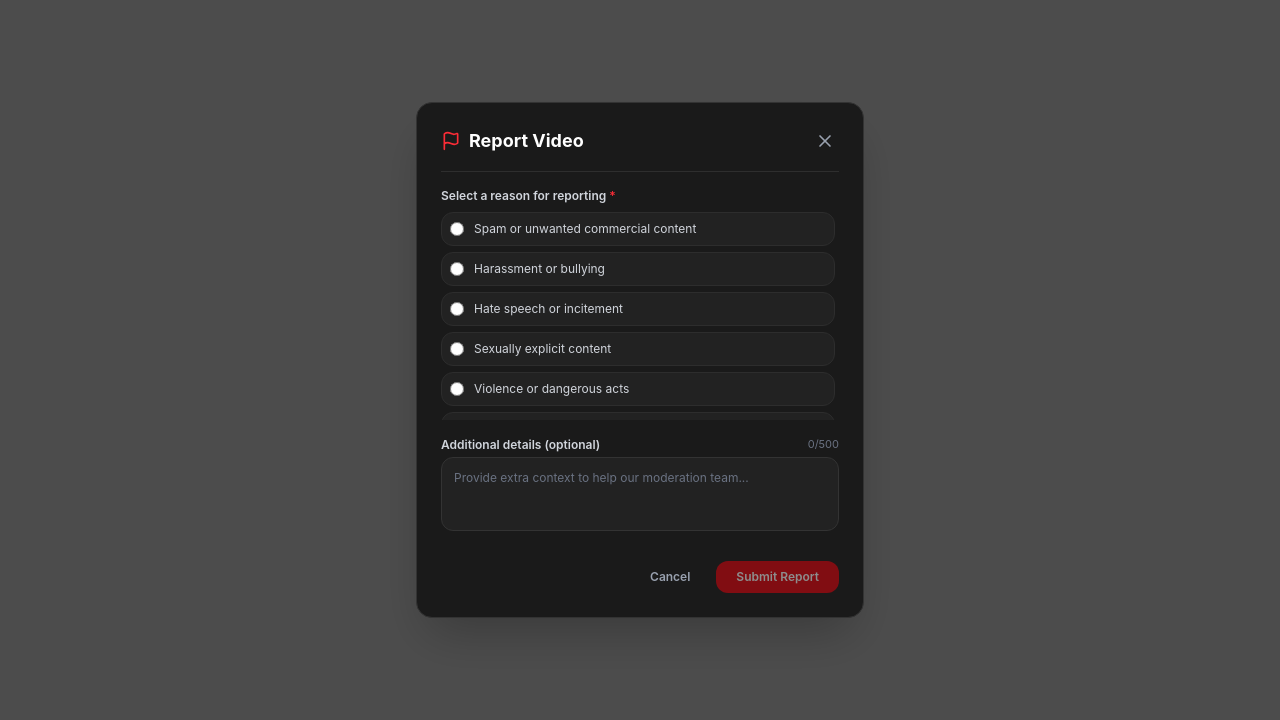
Test: Admin & Moderation UI (Task U4) › 2. User Reporting (ReportDialog) › unmounts cleanly right after successful report submit with fake timers
Click the radio button labelled "Spam or unwanted commercial content".
click(457, 229)  # box [450,222,464,236]
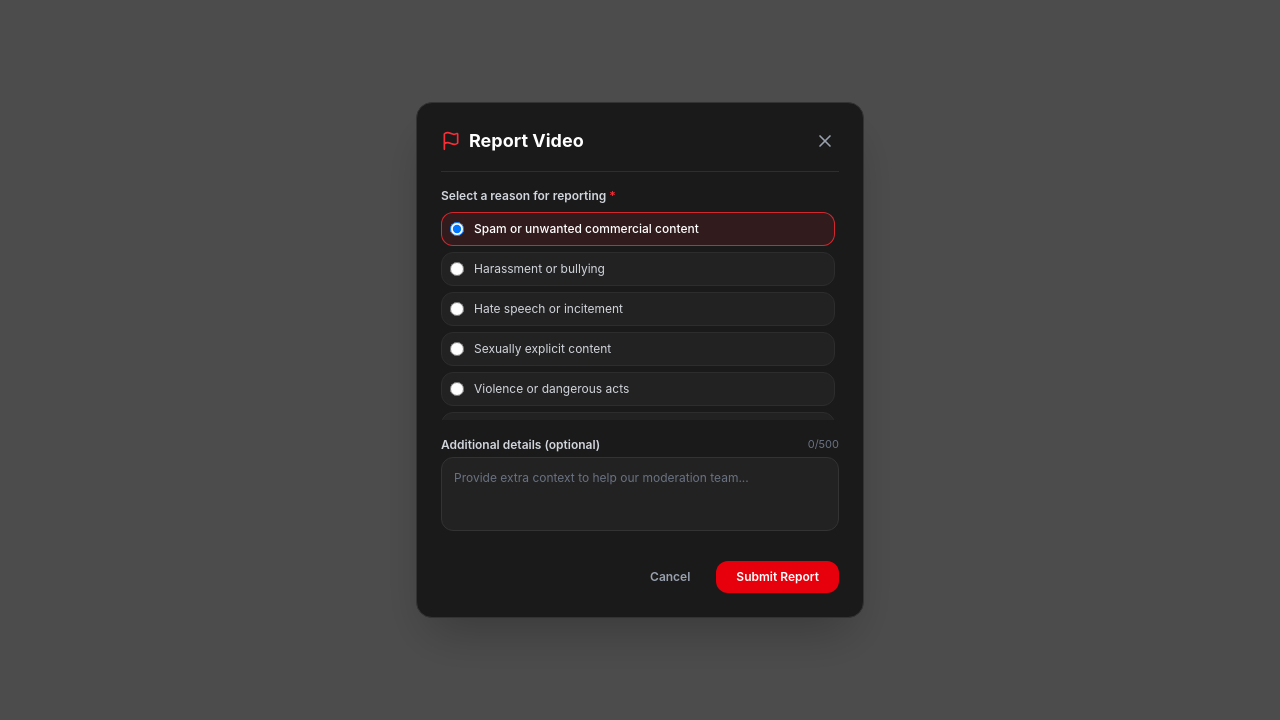
Click the button "Submit Report".
click(778, 577)  # box [716,561,839,593]
Wait 50 ms
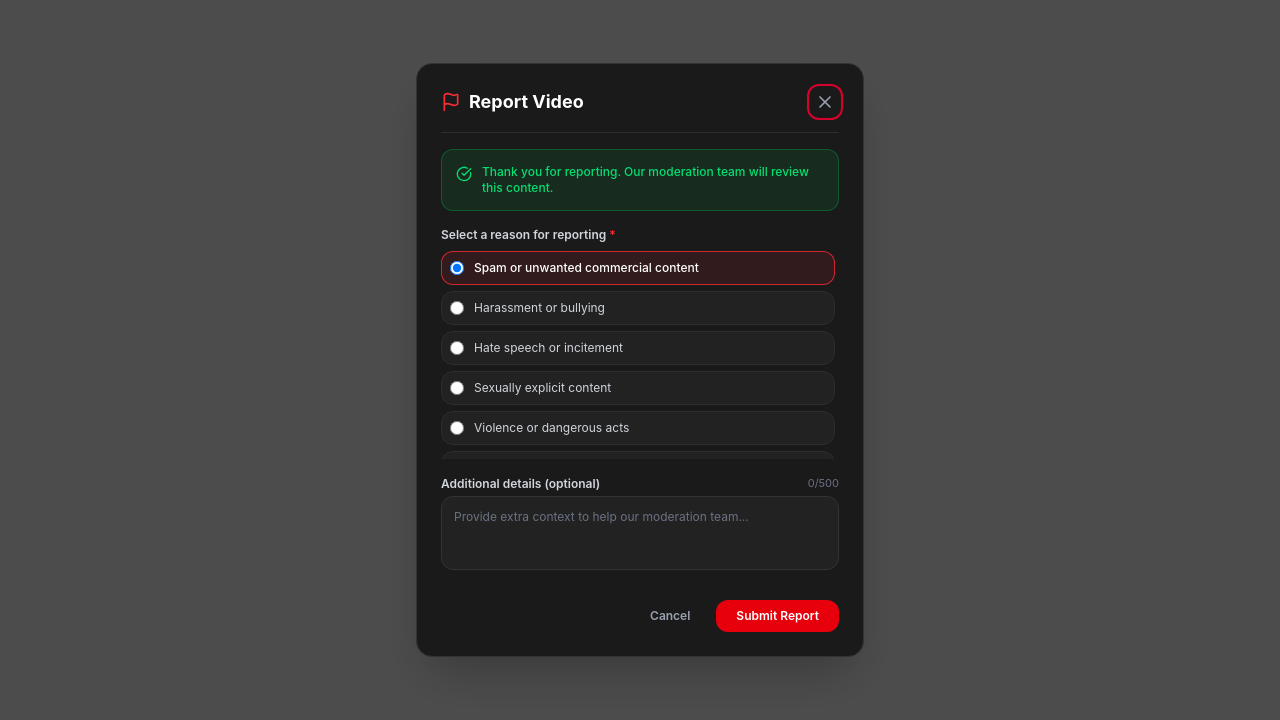
Check: the text "Thank you for reporting. Our moderation team will review this content." is shown, box [482,164,824,196]
